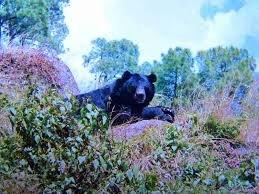bear: (72, 70, 175, 126)
